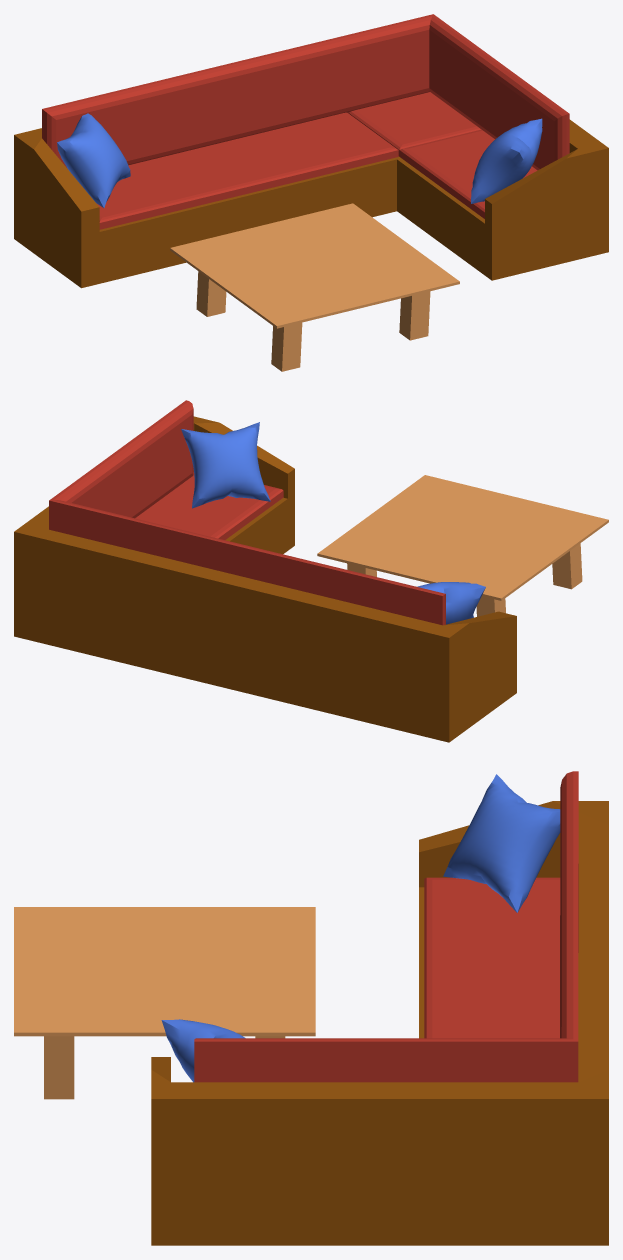
The model's file is furniture.fbx.
3 renders of one model, top to bottom at view 1: azimuth 30°, elevation 25°; view 2: azimuth 150°, elevation 25°; view 3: azimuth 270°, elevation 25°, orthographic. The views are drawn at different scales.
Visible parts, largest first — view 1: Cube, Cube.002, Grid, Cube.001, Cube.003, Cube.004; view 2: Cube, Grid, Cube.002, Cube.004, Cube.001, Cube.003; view 3: Cube, Grid, Cube.002, Cube.001, Cube.003, Cube.004.
Boxes of the visible parts, x1,y1,x2,y2 form: Cube: [14, 119, 608, 288]; Cube.002: [42, 14, 569, 170]; Grid: [170, 203, 459, 371]; Cube.001: [96, 92, 537, 229]; Cube.003: [57, 113, 130, 207]; Cube.004: [471, 118, 542, 203]; Cube: [14, 416, 516, 742]; Grid: [317, 475, 608, 616]; Cube.002: [49, 400, 445, 625]; Cube.004: [181, 422, 270, 508]; Cube.001: [135, 471, 283, 539]; Cube.003: [417, 582, 485, 624]; Cube: [151, 801, 608, 1245]; Grid: [14, 907, 315, 1099]; Cube.002: [194, 771, 578, 1082]; Cube.001: [424, 877, 560, 1038]; Cube.003: [443, 774, 560, 912]; Cube.004: [161, 1019, 245, 1082].
Bounding box in the file's own units: 17.47 × 5.27 × 14.75.
